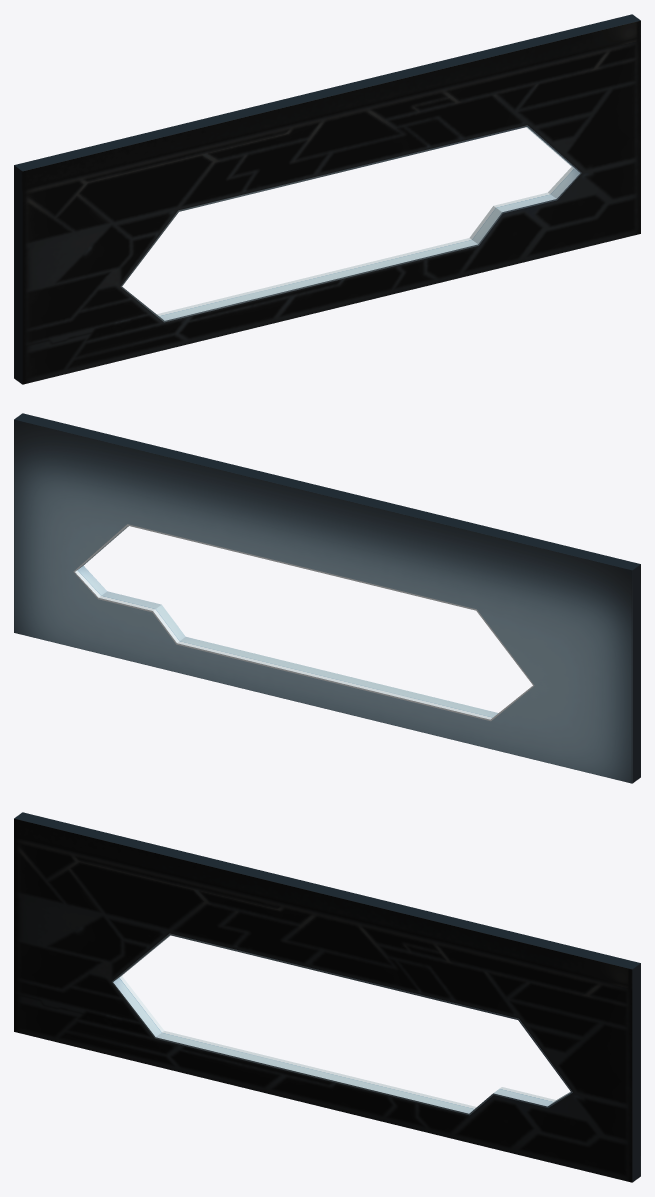
The model's file is SciFi_Conf_Room_Window_Wall.FBX.
3 renders of one model, top to bottom at view 1: azimuth 30°, elevation 25°; view 2: azimuth 150°, elevation 25°; view 3: azimuth 330°, elevation 25°, orthographic.
Visible parts, largest first — view 1: SciFi_Conf_Room_Window_Wall; view 2: SciFi_Conf_Room_Window_Wall; view 3: SciFi_Conf_Room_Window_Wall.
Part boxes in pixels (x1,y1,x2,y2): SciFi_Conf_Room_Window_Wall: (14,14,640,384); SciFi_Conf_Room_Window_Wall: (14,413,640,783); SciFi_Conf_Room_Window_Wall: (14,812,640,1182).
Size of the model in its own units: 11365 by 3745 by 281.
